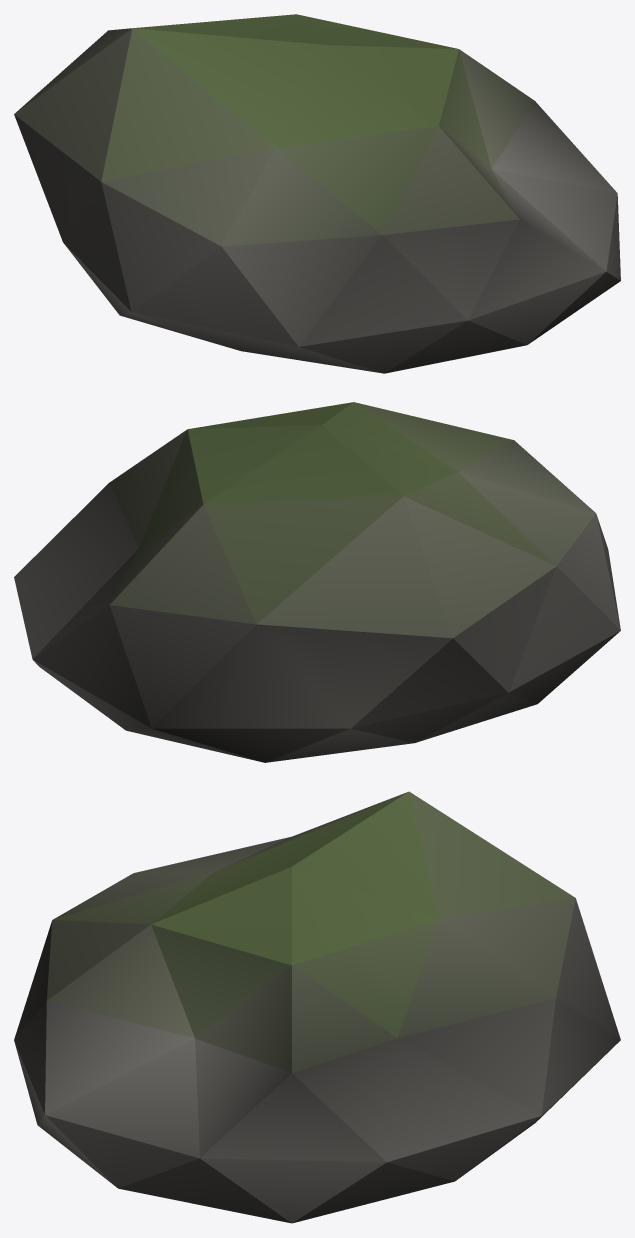
File: rock1.glb
3 renders of one model, top to bottom at view 1: azimuth 30°, elevation 25°; view 2: azimuth 150°, elevation 25°; view 3: azimuth 270°, elevation 25°, orthographic. The views are drawn at different scales.
Visible parts, largest first — view 1: rock1; view 2: rock1; view 3: rock1.
Part boxes in pixels (x1,y1,x2,y2): rock1: (14, 14, 620, 373); rock1: (14, 402, 620, 762); rock1: (14, 791, 620, 1223).
Bounding box in the file's own units: 2 × 0.9424 × 2.06.
